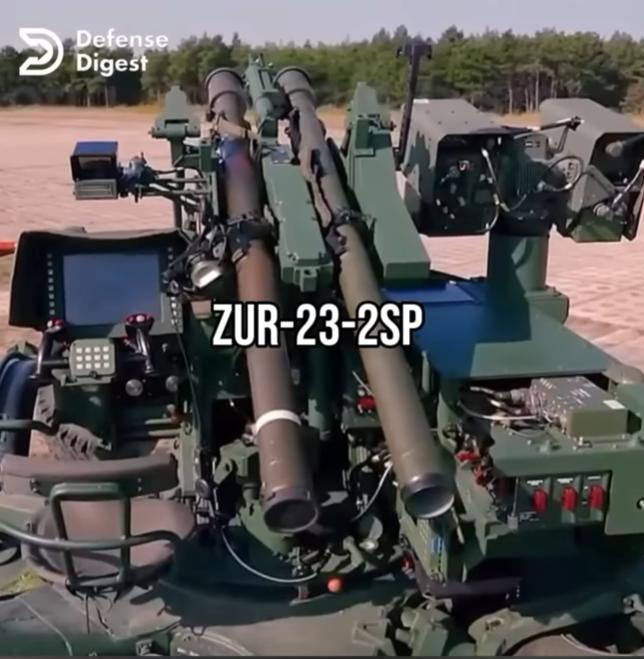MIL_SPG: (0, 59, 644, 659)
